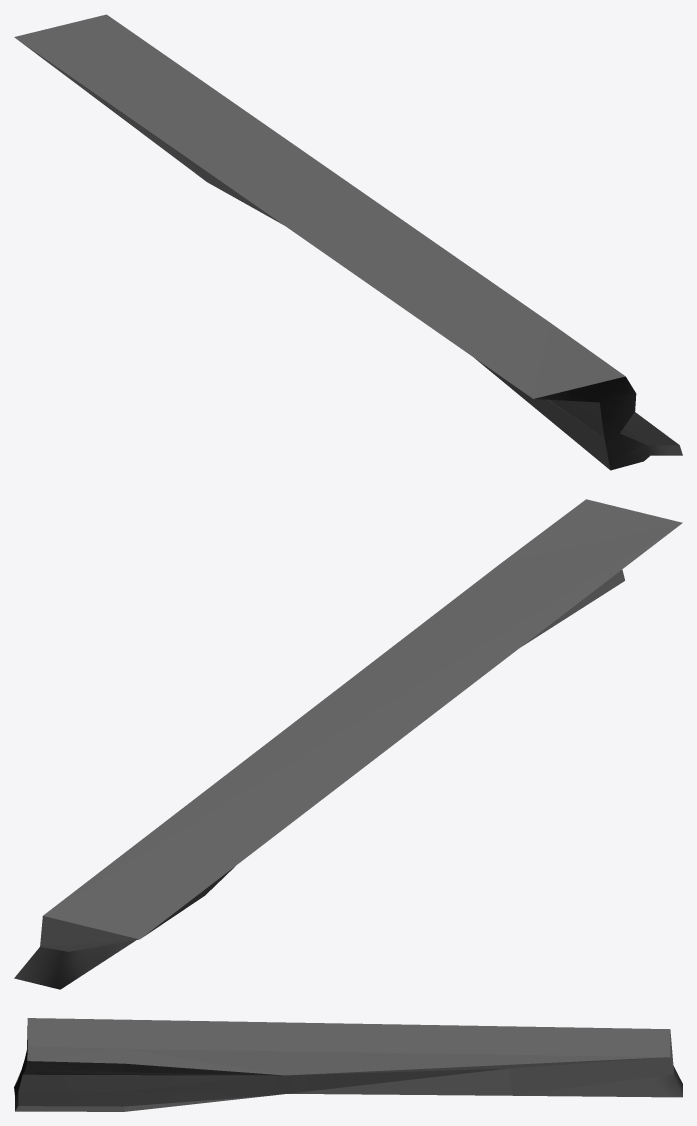
The model's file is Muscle_1_Sidepanel_3_R.fbx.
3 views of the same model, one above another, from view 1: azimuth 30°, elevation 25°; view 2: azimuth 150°, elevation 25°; view 3: azimuth 270°, elevation 25° (orthographic). The views are drawn at different scales.
Parts seen in each view (by area): view 1: Muscle_1_Sidepanel_3_R; view 2: Muscle_1_Sidepanel_3_R; view 3: Muscle_1_Sidepanel_3_R.
Boxes of the visible parts, x1,y1,x2,y2 form: Muscle_1_Sidepanel_3_R: [14, 14, 682, 470]; Muscle_1_Sidepanel_3_R: [14, 499, 682, 989]; Muscle_1_Sidepanel_3_R: [14, 1018, 682, 1111].
Size of the model in its own units: 10.95 by 6.37 by 72.86.
